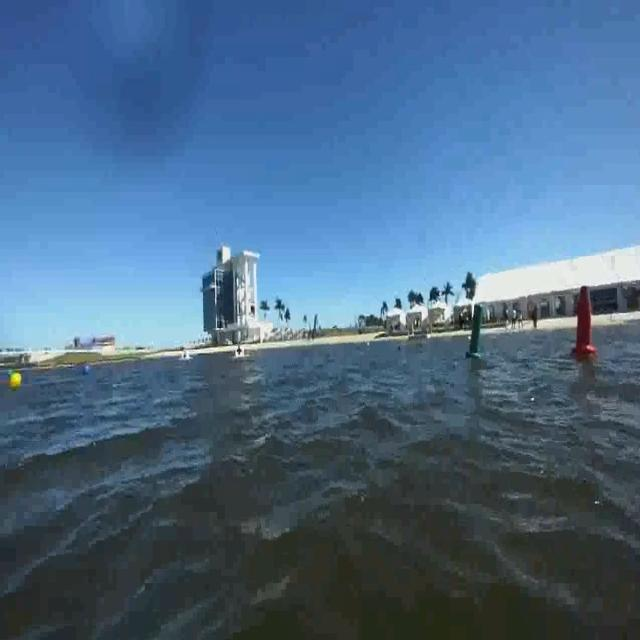blue-buoy: (82, 364, 90, 374)
green-column-buoy: (464, 304, 486, 362)
red-column-buoy: (573, 286, 598, 358)
yellow-buoy: (9, 371, 22, 392)
